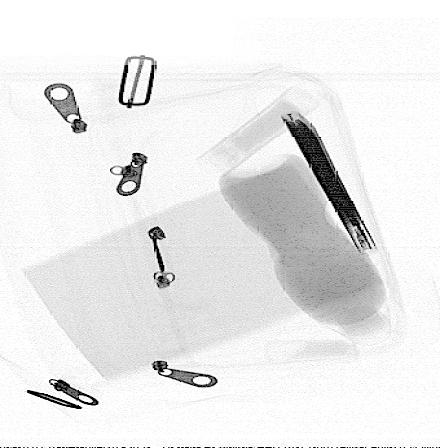Powerbank: (277, 110, 382, 256)
